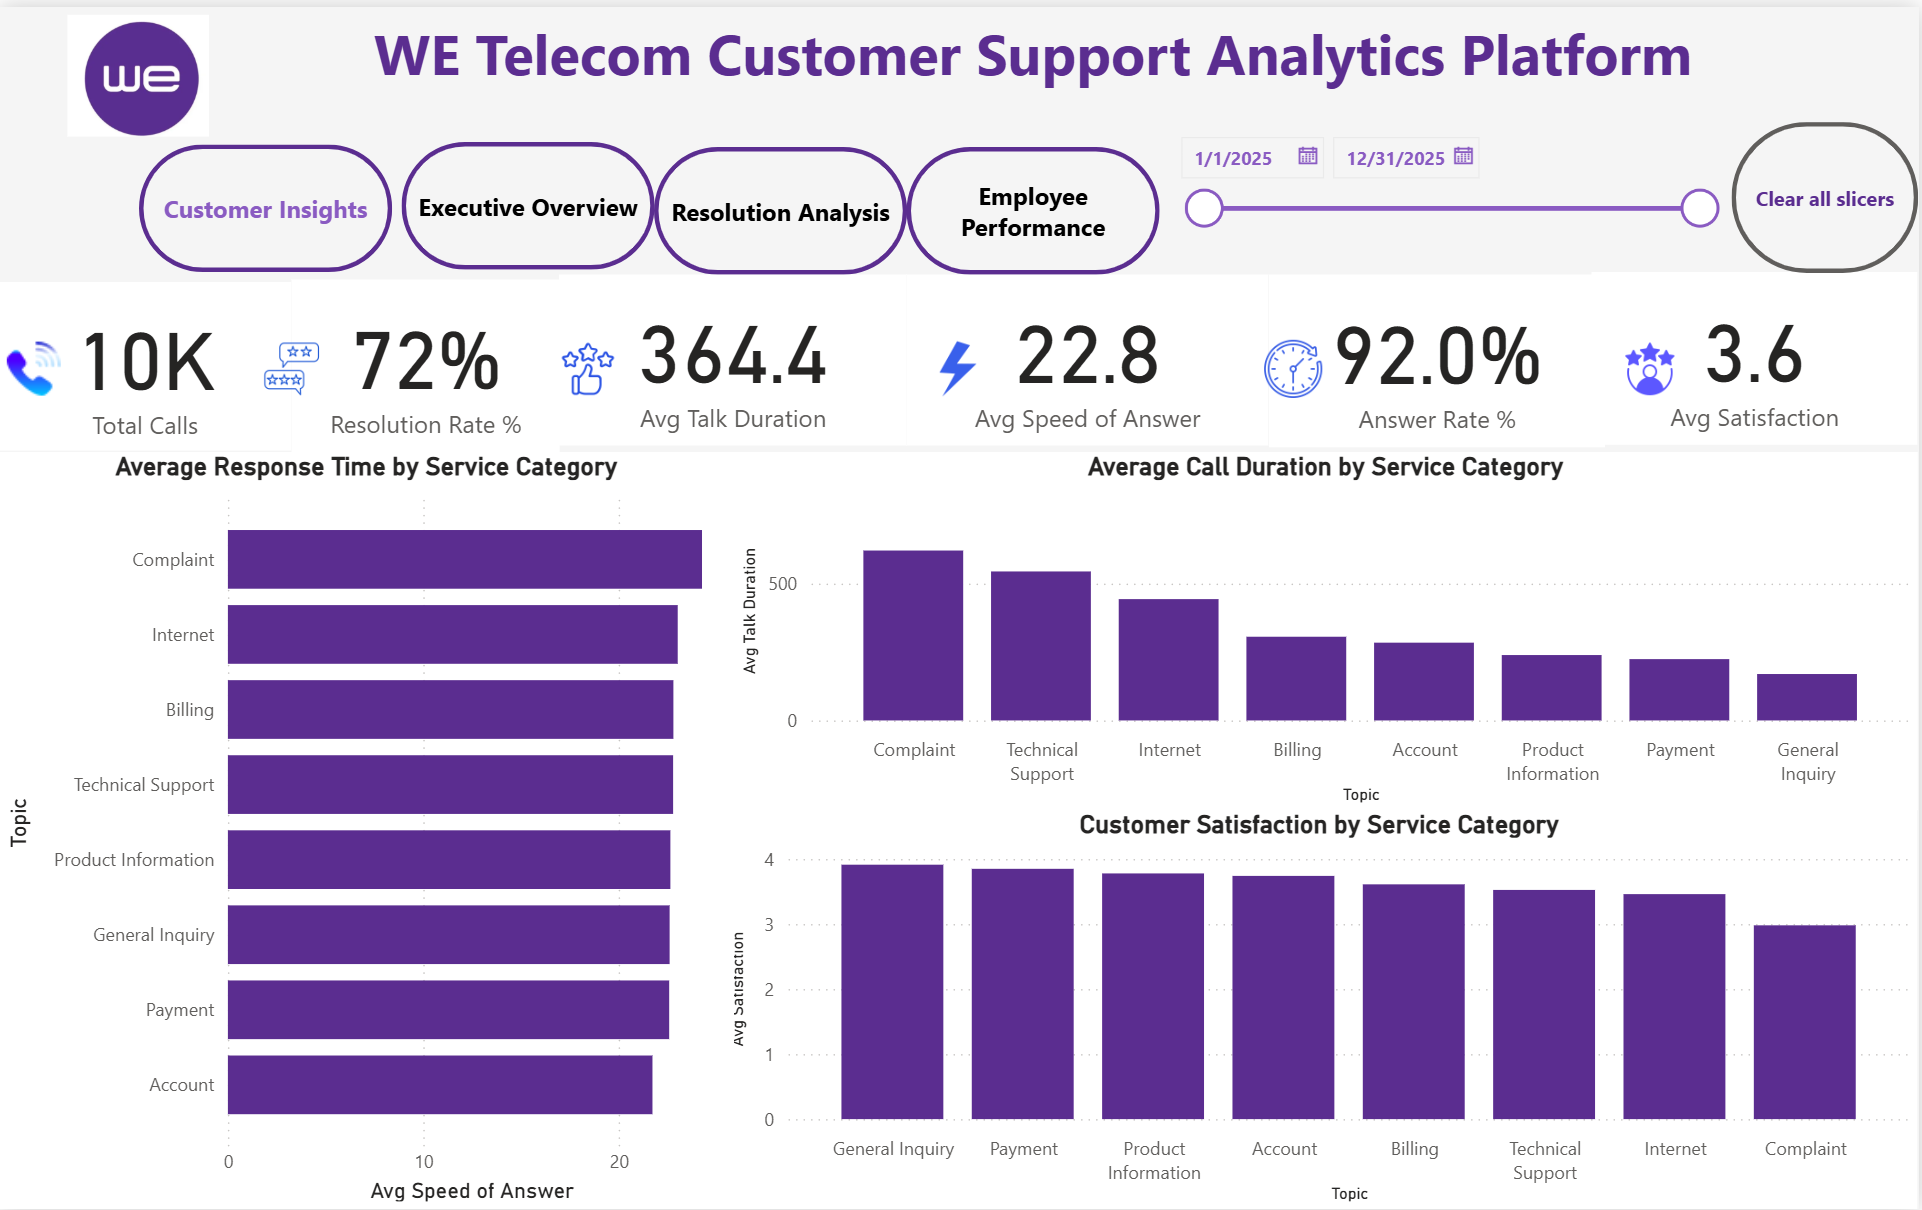

This screenshot's page, from the dashboard's own definition file:
{"tool":"powerbi","page":{"name":" Customer Insights","canvas":[1280,801],"ordinal":1},"visuals":[{"type":"card","fields":{"Values":["Measure.Total Calls"]},"box":[0,184.1,194.7,112.6],"z":0},{"type":"card","fields":{"Values":["Measure.Avg Satisfaction"]},"box":[1062.2,177.5,217.2,115.2],"z":1000},{"type":"card","fields":{"Values":["Measure.Avg Speed of Answer"]},"box":[605.3,178.8,241,113.9],"z":2000},{"type":"card","fields":{"Values":["Measure.Avg Talk Duration"]},"box":[373.5,178.8,231.8,113.9],"z":3000},{"type":"image","box":[0,215.9,46.4,49],"z":4000},{"type":"image","box":[361.6,215.9,62.2,49],"z":5000},{"type":"image","box":[1070.1,215.9,60.9,49],"z":6000},{"type":"image","box":[607.9,215.9,62.2,49],"z":7000},{"type":"card","fields":{"Values":["Measure.Answer Rate %"]},"box":[846.3,178.8,223.8,115.2],"z":8000},{"type":"image","box":[835.7,215.9,55.6,49],"z":9000},{"type":"card","fields":{"Values":["Measure.Resolution Rate %"]},"box":[194.7,181.4,178.8,115.2],"z":10000},{"type":"image","box":[162.9,215.9,63.6,49],"z":11000},{"type":"actionButton","box":[1154.9,76.8,124.5,100.7],"z":12000},{"type":"textbox","box":[100.7,0,1178.7,76.8],"z":13000},{"type":"image","box":[0,0,185.4,91.4],"z":14000},{"type":"clusteredColumnChart","title":"Customer Satisfaction by Service Category","fields":{"Category":["Calls.Topic"],"Y":["Measure.Avg Satisfaction"]},"box":[482.1,535.1,797.3,266.2],"z":15000},{"type":"barChart","title":"Average Response Time by Service Category","fields":{"Category":["Calls.Topic"],"Y":["Measure.Avg Speed of Answer"]},"box":[0,296.7,490,504.6],"z":16000},{"type":"columnChart","title":"Average Call Duration by Service Category","fields":{"Category":["Calls.Topic"],"Y":["Measure.Avg Talk Duration"]},"box":[489.9,296.4,789,238.8],"z":17000},{"type":"actionButton","box":[93.3,91.9,168.8,85.1],"z":18000},{"type":"actionButton","box":[267.6,89.2,168.8,85.1],"z":19000},{"type":"actionButton","box":[605.1,93.3,168.8,85.1],"z":20000},{"type":"actionButton","box":[436.4,93.3,168.8,85.1],"z":21000},{"type":"slicer","fields":{"Values":["Calls.Date"]},"box":[774.3,77.1,380,97.1],"z":22000}]}

Visuals, with their boxes in screenshot pixels (x1, y1, x2, y2), scaled from the page's 1280x801 canvas onto the 1922x1210 screenshot:
card - Measure.Total Calls: bbox(0, 278, 292, 448)
card - Measure.Avg Satisfaction: bbox(1595, 268, 1921, 442)
card - Measure.Avg Speed of Answer: bbox(909, 270, 1271, 442)
card - Measure.Avg Talk Duration: bbox(561, 270, 909, 442)
image: bbox(0, 326, 70, 400)
image: bbox(543, 326, 636, 400)
image: bbox(1607, 326, 1698, 400)
image: bbox(913, 326, 1006, 400)
card - Measure.Answer Rate %: bbox(1271, 270, 1607, 444)
image: bbox(1255, 326, 1338, 400)
card - Measure.Resolution Rate %: bbox(292, 274, 561, 448)
image: bbox(245, 326, 340, 400)
actionButton: bbox(1734, 116, 1921, 268)
textbox: bbox(151, 0, 1921, 116)
image: bbox(0, 0, 278, 138)
"Customer Satisfaction by Service Category" clusteredColumnChart: bbox(724, 808, 1921, 1209)
"Average Response Time by Service Category" barChart: bbox(0, 448, 736, 1209)
"Average Call Duration by Service Category" columnChart: bbox(736, 448, 1920, 808)
actionButton: bbox(140, 139, 394, 267)
actionButton: bbox(402, 135, 655, 263)
actionButton: bbox(909, 141, 1162, 269)
actionButton: bbox(655, 141, 909, 269)
slicer - Calls.Date: bbox(1163, 116, 1733, 263)
